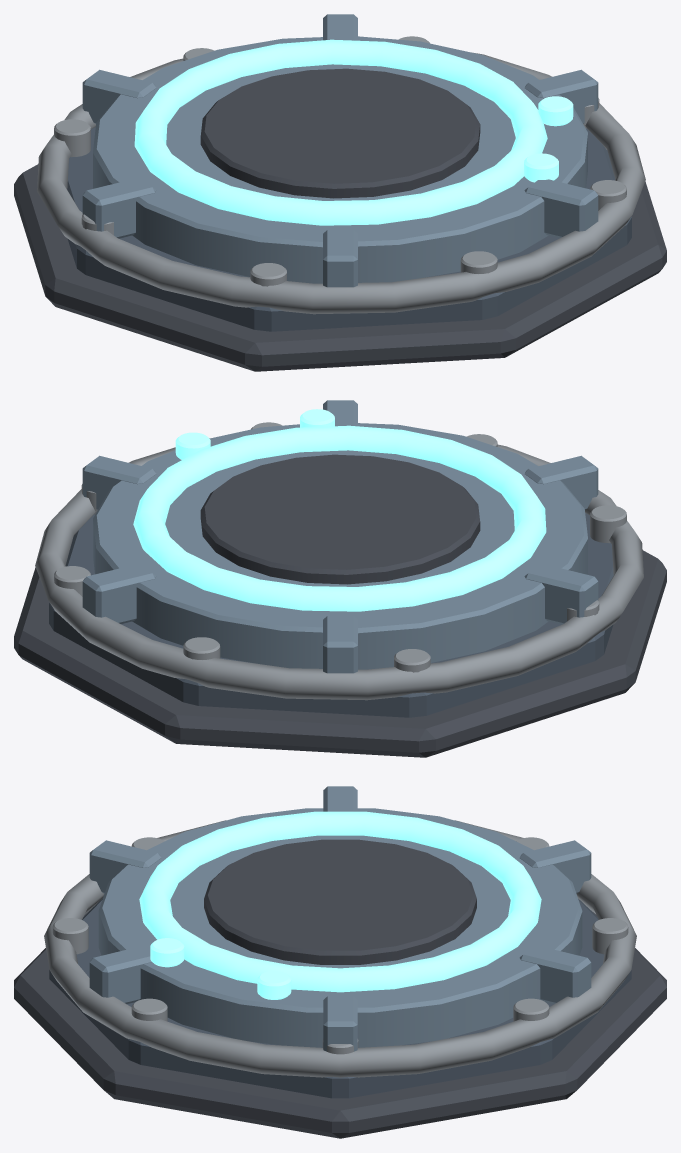
File: gun_base_l2.glb
3 views of the same model, one above another, from view 1: azimuth 30°, elevation 25°; view 2: azimuth 150°, elevation 25°; view 3: azimuth 270°, elevation 25° (orthographic). The views are drawn at different scales.
Parts seen in each view (by area): view 1: Cylinder.002, Cylinder, Cylinder.003, Torus.001, Torus, Cylinder.001, Cube.005, Cube.003, Cube.002, Cube.004, Cube, Cylinder.007 (+6 smaller); view 2: Cylinder.002, Cylinder, Cylinder.003, Torus.001, Torus, Cylinder.001, Cube.001, Cube.003, Cube.004, Cube.002, Cube, Cylinder.009 (+6 smaller); view 3: Cylinder.002, Cylinder, Cylinder.003, Torus, Torus.001, Cylinder.001, Cube.001, Cube.005, Cube.002, Cube.004, Cube, Cylinder.006 (+6 smaller).
Part boxes in pixels (x1,y1,x2,y2): Cylinder.002: (93,36,587,283); Cylinder: (14,164,666,371); Cylinder.003: (200,68,480,198); Torus.001: (134,39,547,225); Torus: (37,52,645,314); Cylinder.001: (67,127,631,331); Cube.005: (524,179,598,237); Cube.003: (82,177,156,238); Cube.002: (82,69,156,123); Cube.004: (323,229,357,287); Cube: (524,69,598,123); Cylinder.007: (54,119,90,157); Cylinder.002: (93,423,587,669); Cylinder: (14,550,666,757); Cylinder.003: (200,454,480,584); Torus.001: (133,425,546,611); Torus: (35,444,643,700); Cylinder.001: (49,513,613,717); Cube.001: (82,563,156,623); Cube.003: (524,563,598,624); Cube.004: (524,455,598,509); Cube.002: (323,615,357,673); Cube: (82,455,156,509); Cylinder.009: (590,505,626,543); Cylinder.002: (98,808,582,1047); Cylinder: (14,910,666,1138); Cylinder.003: (204,839,476,964); Torus: (44,820,636,1077); Torus.001: (139,811,541,992); Cylinder.001: (49,898,631,1098); Cube.001: (519,945,591,1004); Cube.005: (89,945,151,1004); Cube.002: (519,840,591,893); Cube.004: (89,840,161,893); Cube: (323,996,357,1051); Cylinder.006: (592,918,628,954).
Bounding box in the file's own units: 2.11 × 0.4 × 2.11.
